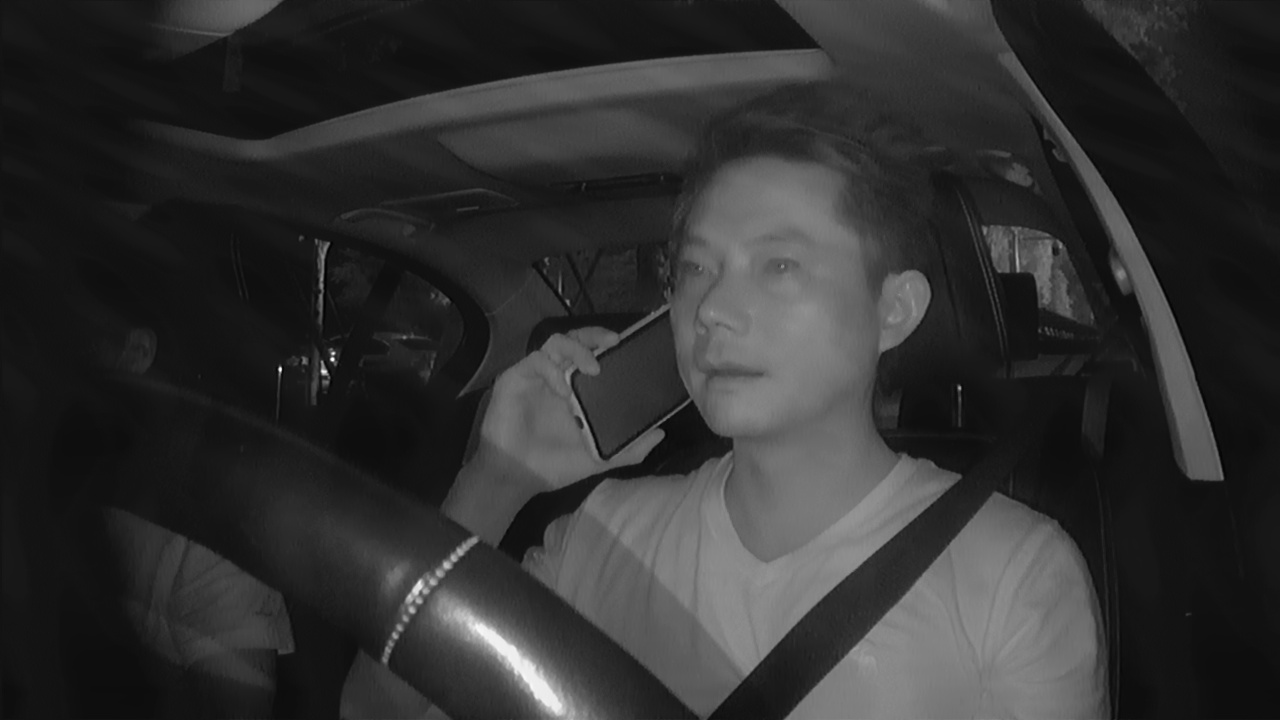hand: (471, 322, 609, 498)
